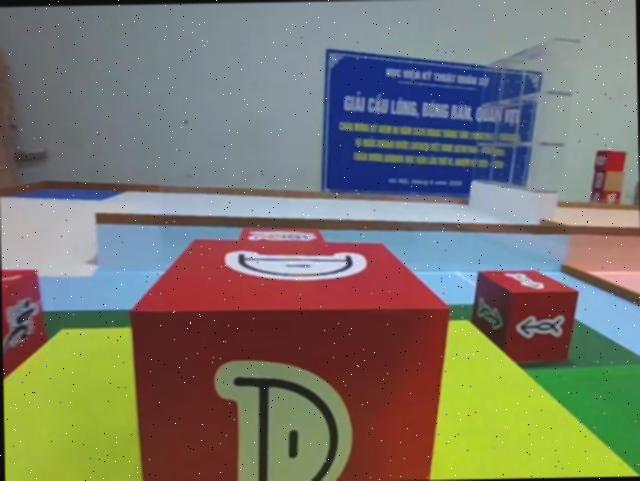R1: (1, 267, 46, 389)
R2 Real: (124, 234, 451, 481), (469, 265, 579, 373)
